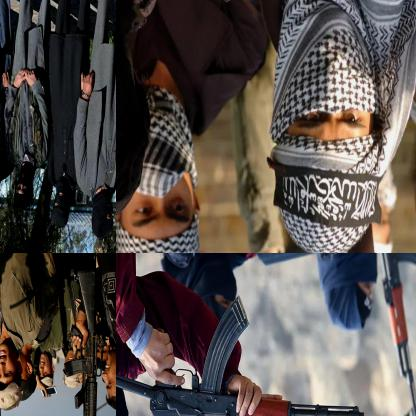rifle: (116, 295, 369, 415), (378, 253, 415, 415), (61, 269, 102, 415)
